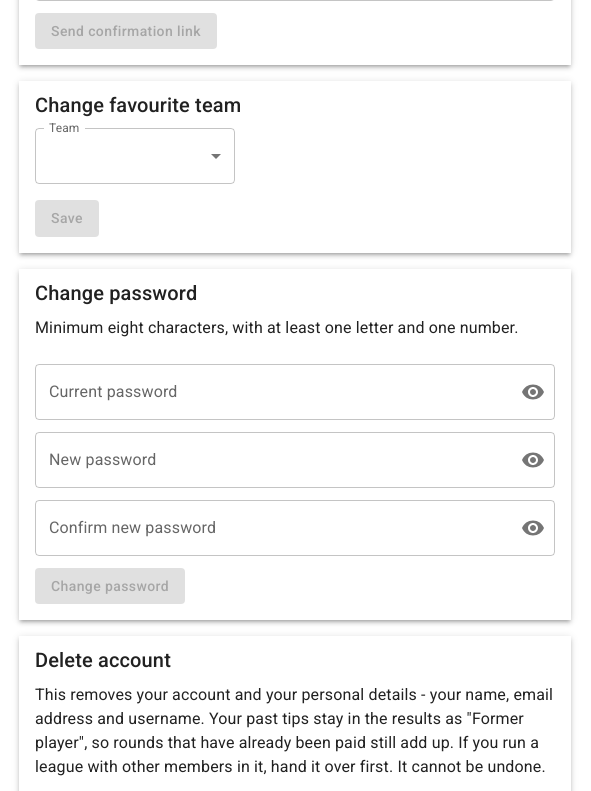
Test: changing your password › can't be asked until all three are filled in
(page scrolled)
Expected: the button "Change password" is disabled, [35,568,185,604]
In the 2nd password field labelled "Current password": x=270, y=392 [35,364,505,420], type "Passw0rd1"
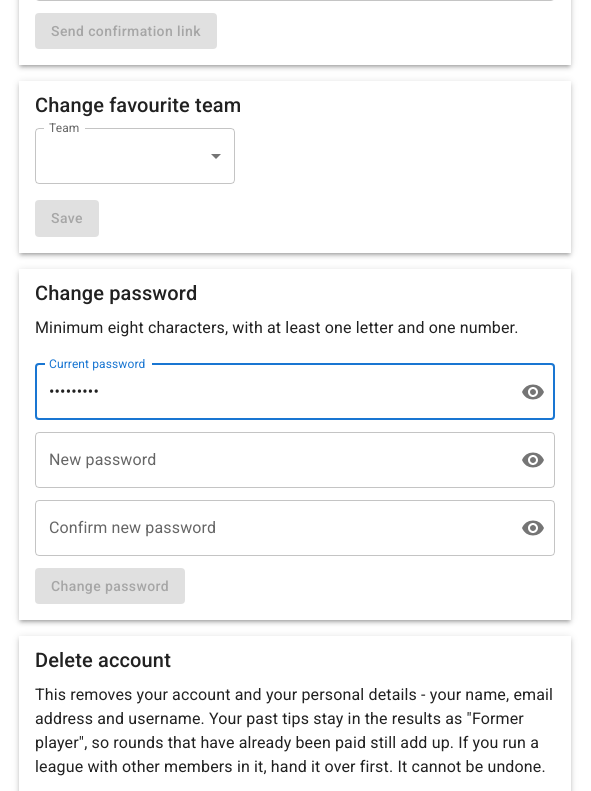
In the password field labelled "New password": x=270, y=460 [35,432,505,488], type "N3wpassword"
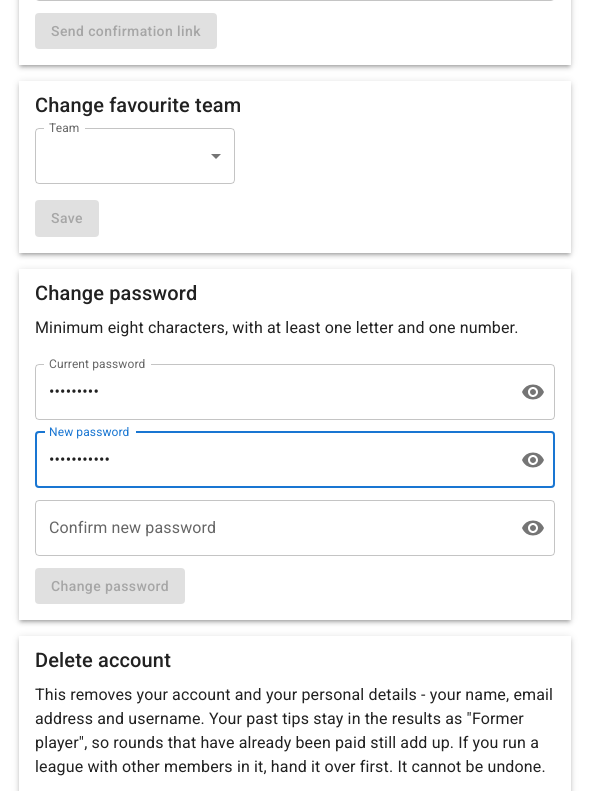
Expected: the button "Change password" is disabled, [35,568,185,604]
In the password field labelled "Confirm new password": x=270, y=528 [35,500,505,556], type "N3wpassword"
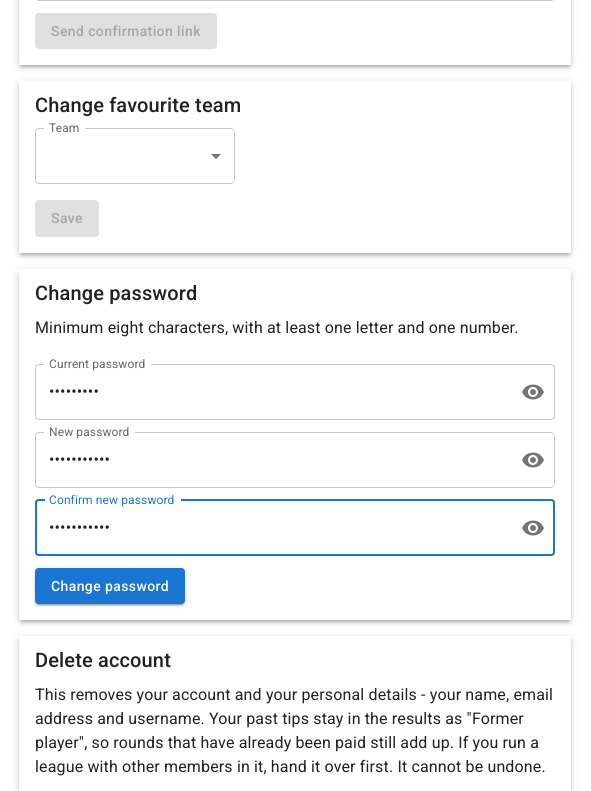
Now the button "Change password" is enabled, box [35,568,185,604]
